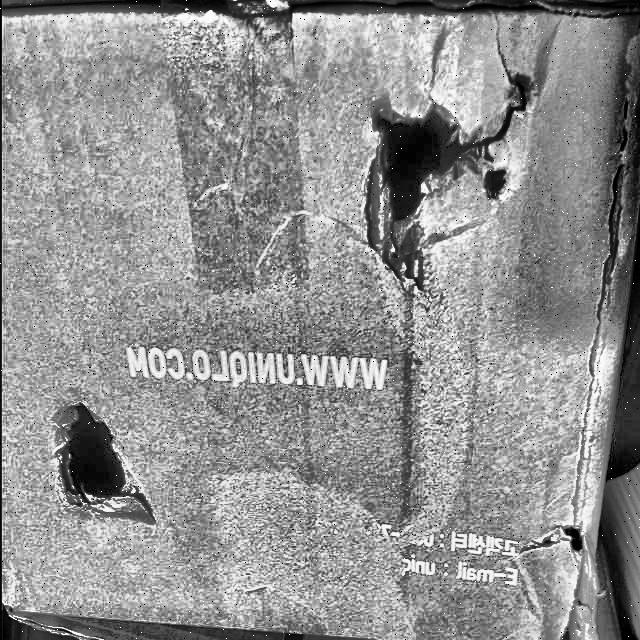box: (3, 1, 639, 640)
hole: (361, 90, 535, 246), (47, 404, 157, 516), (520, 503, 597, 640)
